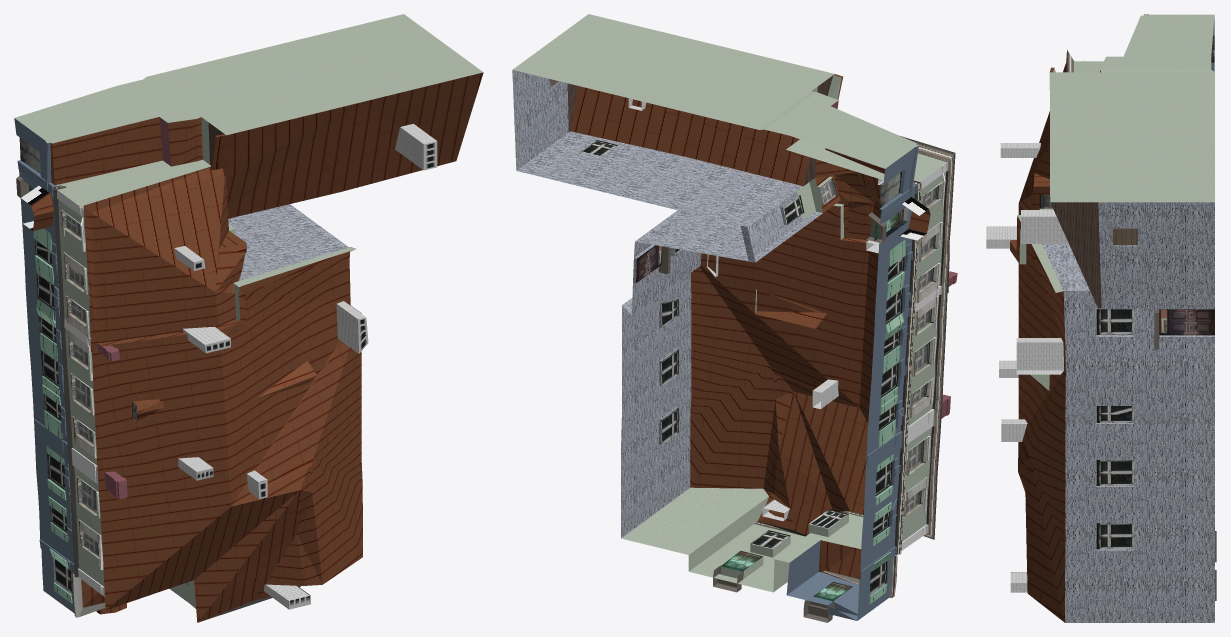
The model's file is Uus_20-origo.obj.
The picture shows the model from 3 angles, left to right: view 1: azimuth 30°, elevation 25°; view 2: azimuth 150°, elevation 25°; view 3: azimuth 270°, elevation 25°; orthographic projection. The views are drawn at different scales.
Parts seen in each view (by area): view 1: Uus_20; view 2: Uus_20; view 3: Uus_20.
Boxes of the visible parts, x1=… form: Uus_20: x1=14, y1=14, x2=483, y2=622; Uus_20: x1=512, y1=14, x2=957, y2=622; Uus_20: x1=986, y1=14, x2=1216, y2=622.
Bounding box in the file's own units: 24.25 × 28.5 × 11.56.
